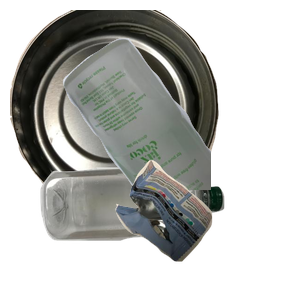glass: (60, 36, 300, 216)
metal: (10, 10, 221, 190)
plastic: (38, 165, 255, 300)
trash: (113, 157, 300, 300)
